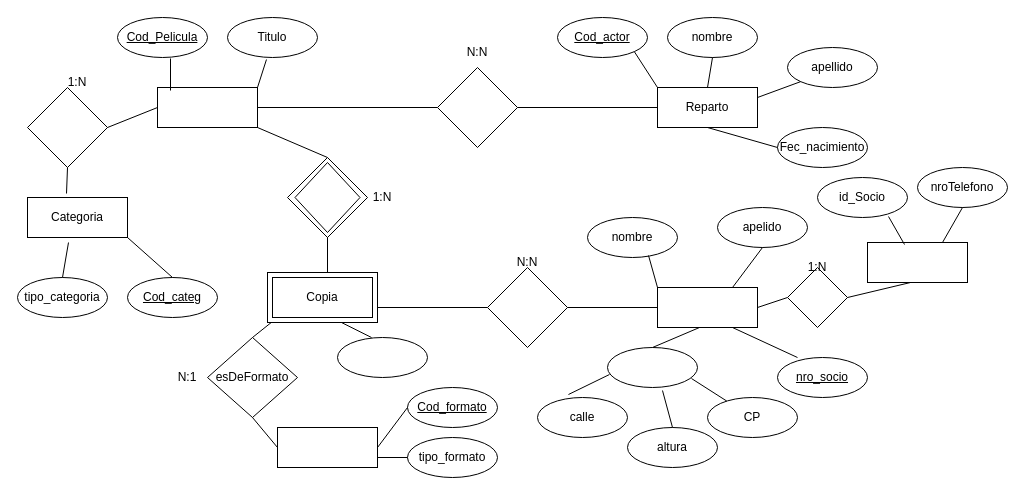
Image size: 1025x495. Some labels were removed from this diagram. The shapes that lost their labels are listed below. From the top down, each one's box as (x1, y1, x2, y2) in pixels, then its label:
(26, 86, 108, 168): esDeCateg
(156, 86, 258, 128): Pelicula
(436, 66, 518, 148): actuan
(294, 162, 360, 232): Tiene
(866, 242, 968, 282): Telefono
(486, 266, 568, 348): Alquila
(656, 286, 758, 328): Socio
(786, 266, 848, 328): tieneReg
(336, 336, 428, 378): Cod_copia
(606, 346, 698, 388): direccion
(276, 426, 378, 468): Formato
